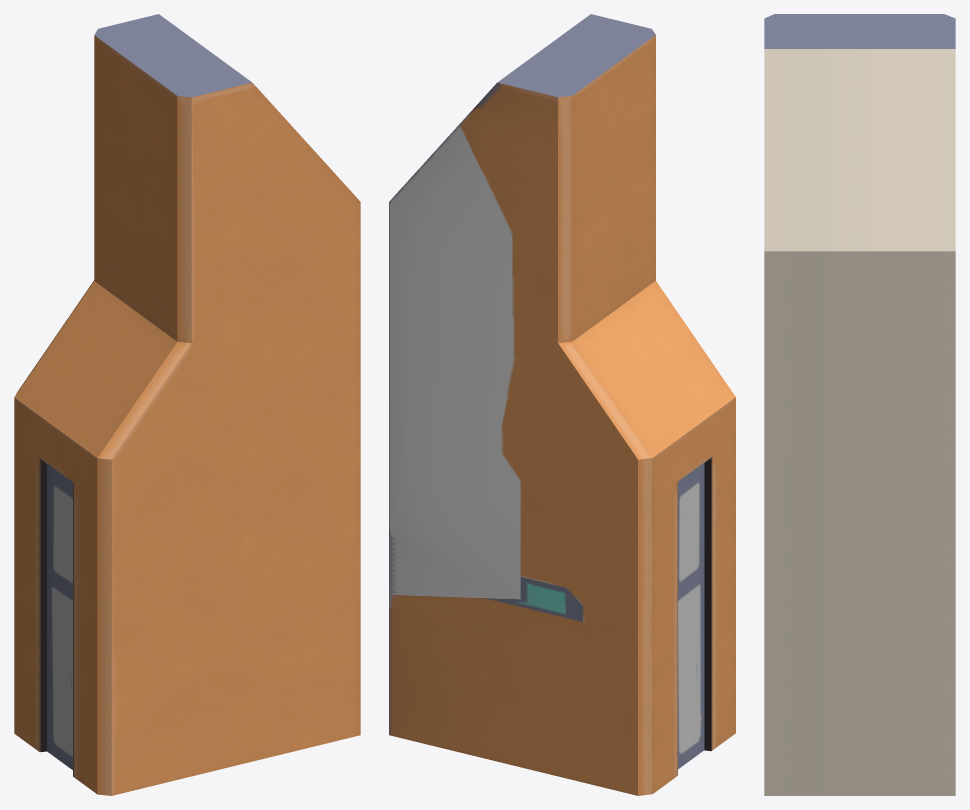
The model's file is main_pillar_low.FBX.
3 renders of one model, left to right at view 1: azimuth 30°, elevation 25°; view 2: azimuth 150°, elevation 25°; view 3: azimuth 270°, elevation 25°, orthographic. The views are drawn at different scales.
Visible parts, largest first — view 1: pillar_main_low; view 2: pillar_main_low; view 3: pillar_main_low.
Part boxes in pixels (box(x1,y1,x2,y2)): pillar_main_low: box(14, 14, 360, 795); pillar_main_low: box(389, 14, 735, 795); pillar_main_low: box(764, 14, 955, 795).
Bounding box in the file's own units: 119 × 75 × 300.
Materials: 1 (1 with a texture image).
